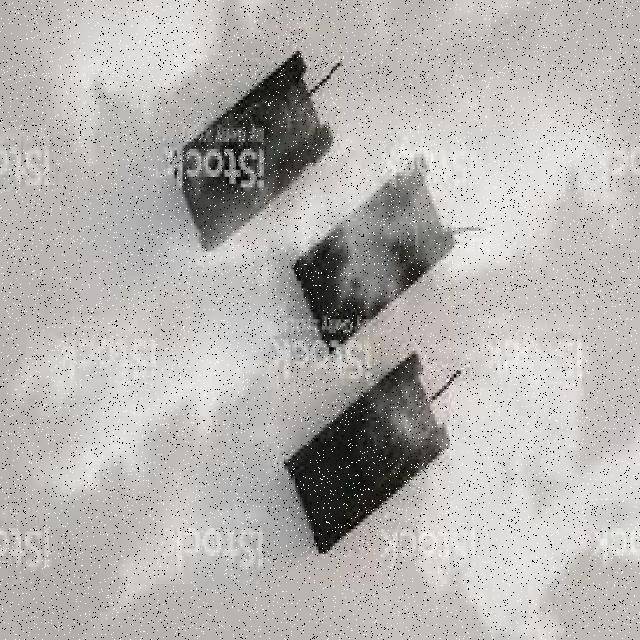MIL_MBT: (286, 345, 449, 558), (178, 49, 330, 250), (292, 165, 452, 353)
